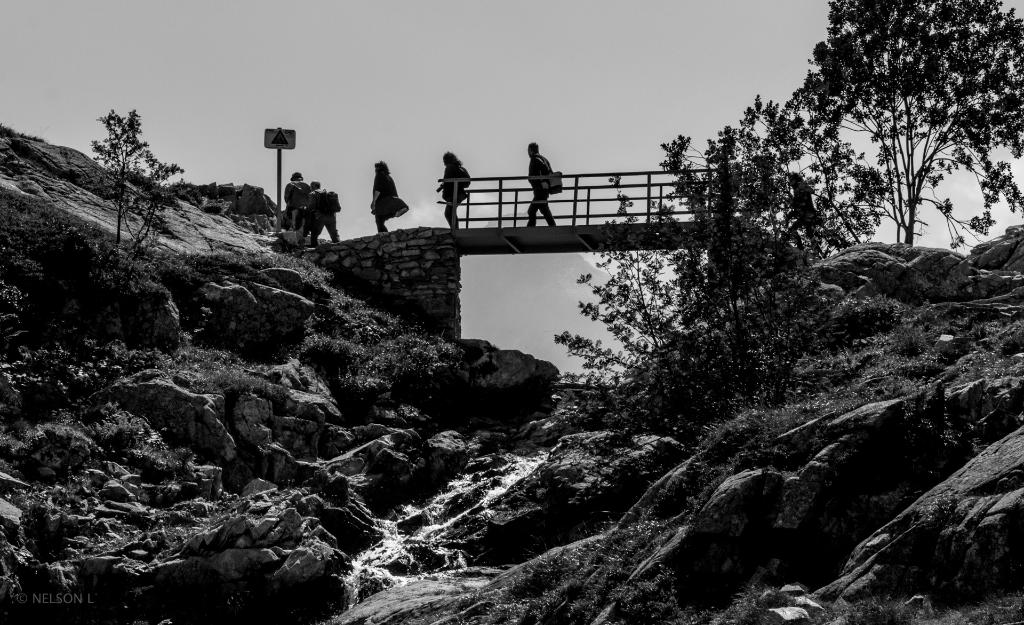Tree: (551, 92, 888, 385), (786, 0, 1023, 251), (80, 108, 186, 257)
